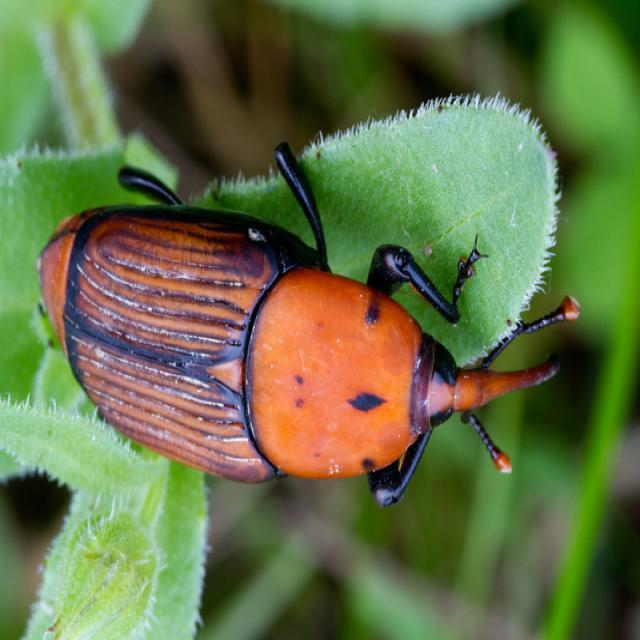Red-palm-weevil: (0, 143, 600, 527)
